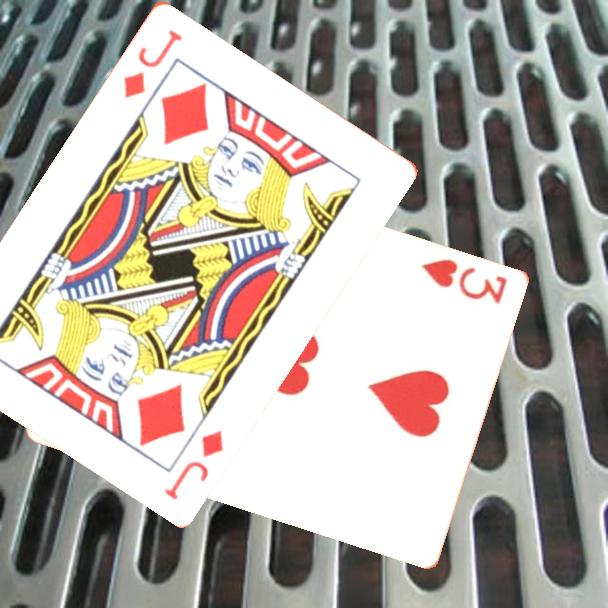d11: (160, 425, 227, 502), (119, 25, 186, 101)
h03: (418, 255, 511, 307)
